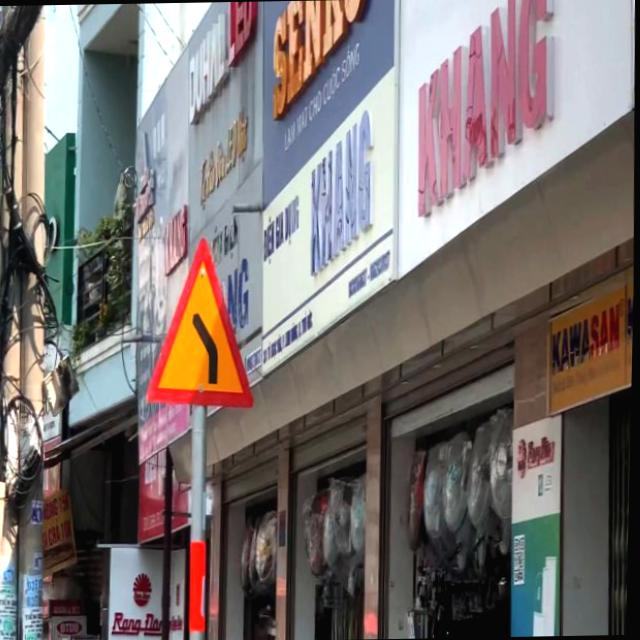cho ngoat nguy hiem vong ben trai: (143, 234, 259, 411)
